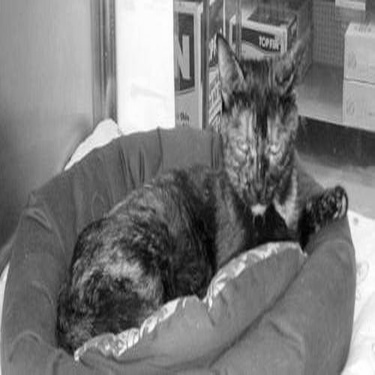cat: (69, 56, 334, 349)
